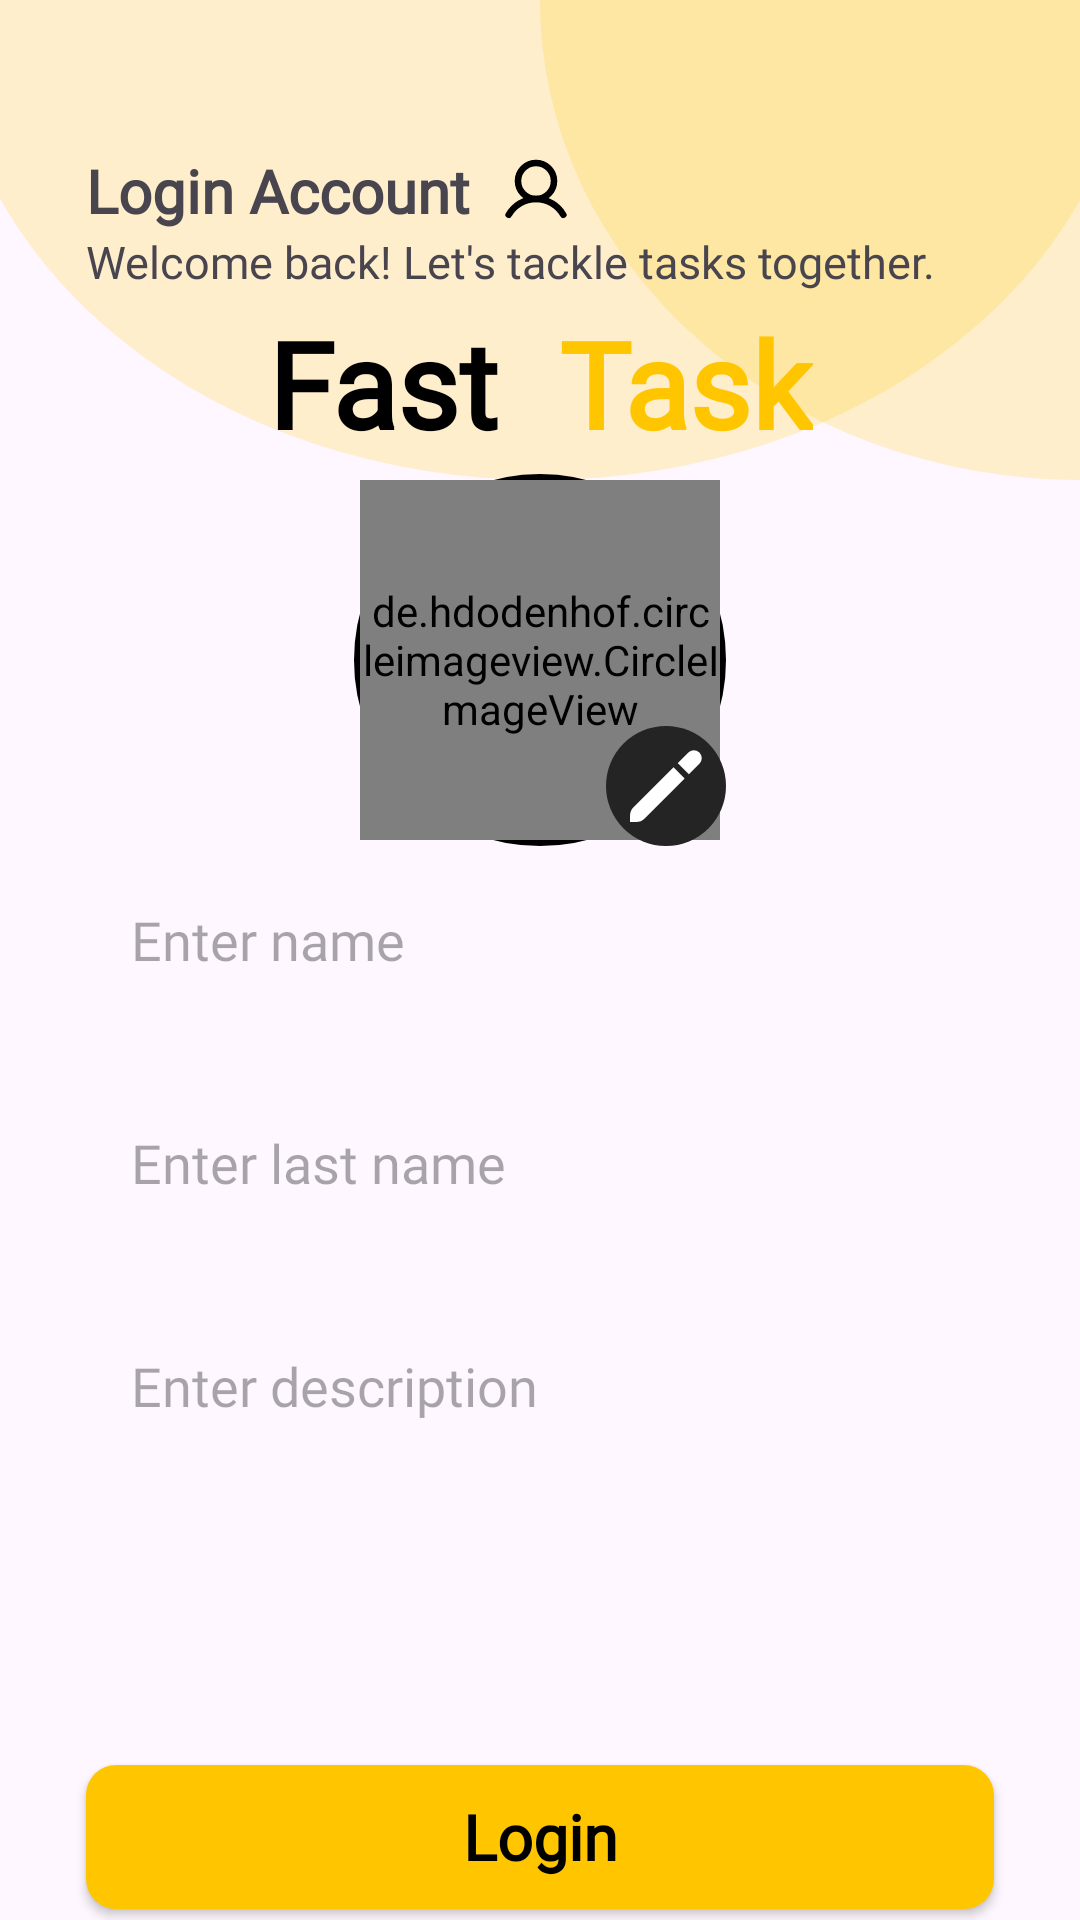

Named icons in this screenshot (1080x1920) and their bounding boxes, (x1, y1, x2, y2):
edit: (630, 750, 702, 822)
